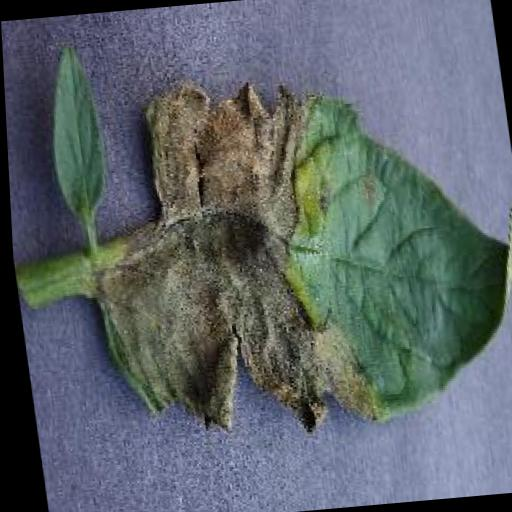Healthy: (34, 36, 112, 224)
Late Blight: (67, 53, 512, 453)
